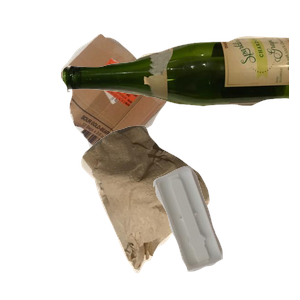cardboard: (58, 31, 222, 188)
glass: (60, 34, 300, 133)
plastic: (150, 163, 300, 300)
trash: (79, 123, 281, 300)
